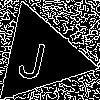J: (15, 31, 52, 81)
